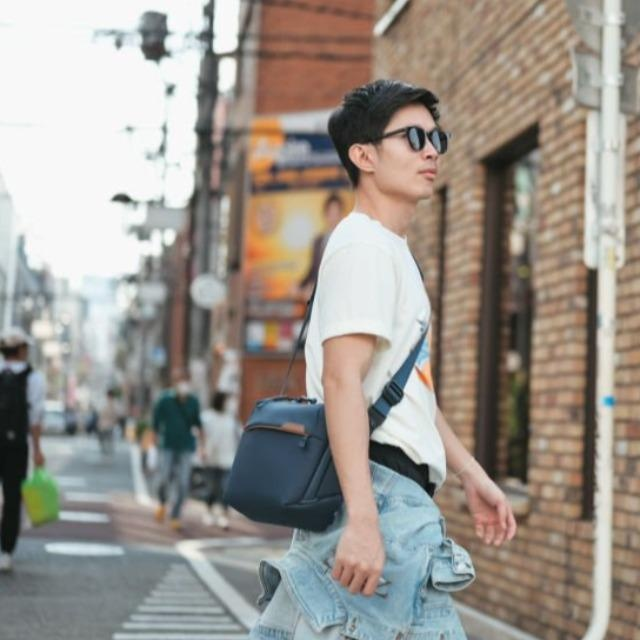Sin_Casco_Mascarrilla: (326, 79, 446, 205)
Sin_Chaleco: (304, 217, 444, 479)
